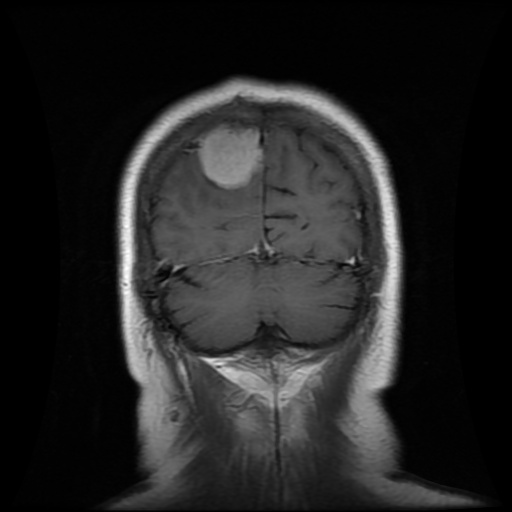meningioma: (198, 122, 264, 188)
